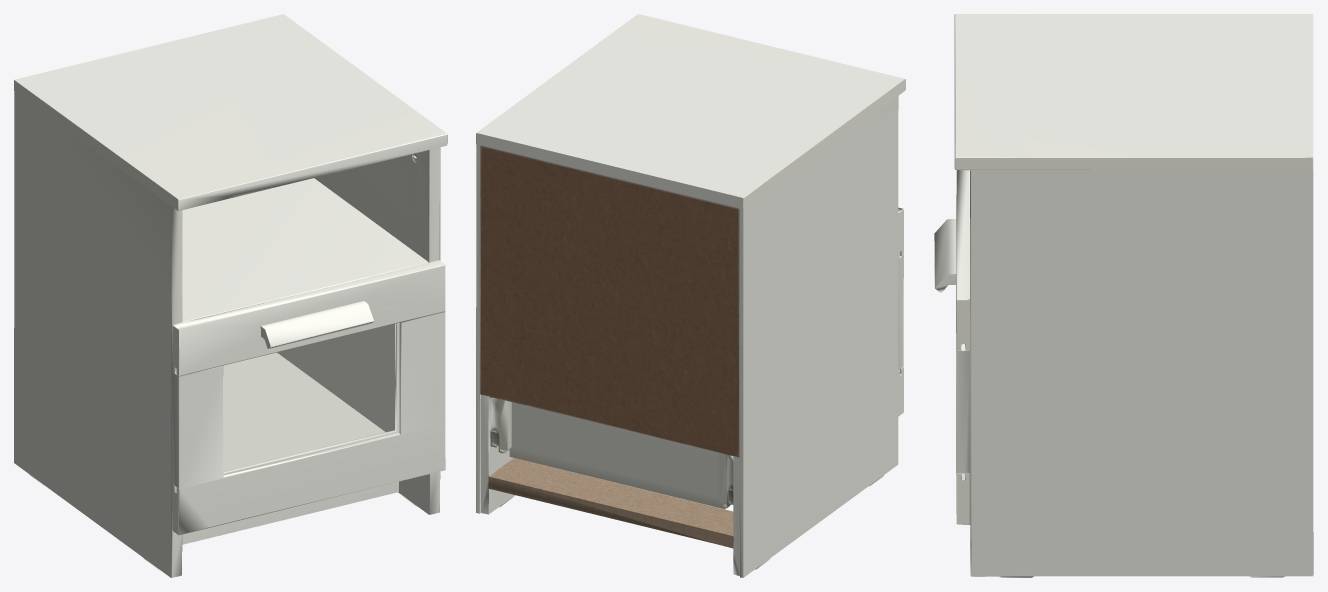
Rendered from brimnes_stolik_nocny_10234942.glb.
3 views of the same model, side by side, from view 1: azimuth 30°, elevation 25°; view 2: azimuth 150°, elevation 25°; view 3: azimuth 270°, elevation 25° (orthographic). The views are drawn at different scales.
Parts seen in each view (by area): view 1: brimnes_stolik_nocny_10234942; view 2: brimnes_stolik_nocny_10234942; view 3: brimnes_stolik_nocny_10234942.
Boxes of the visible parts, x1=… form: brimnes_stolik_nocny_10234942: x1=14, y1=14, x2=447, y2=577; brimnes_stolik_nocny_10234942: x1=476, y1=14, x2=905, y2=577; brimnes_stolik_nocny_10234942: x1=934, y1=14, x2=1313, y2=577.
Bounding box in the file's own units: 0.391 × 0.5342 × 0.4355.
2 materials, 2 textured.
